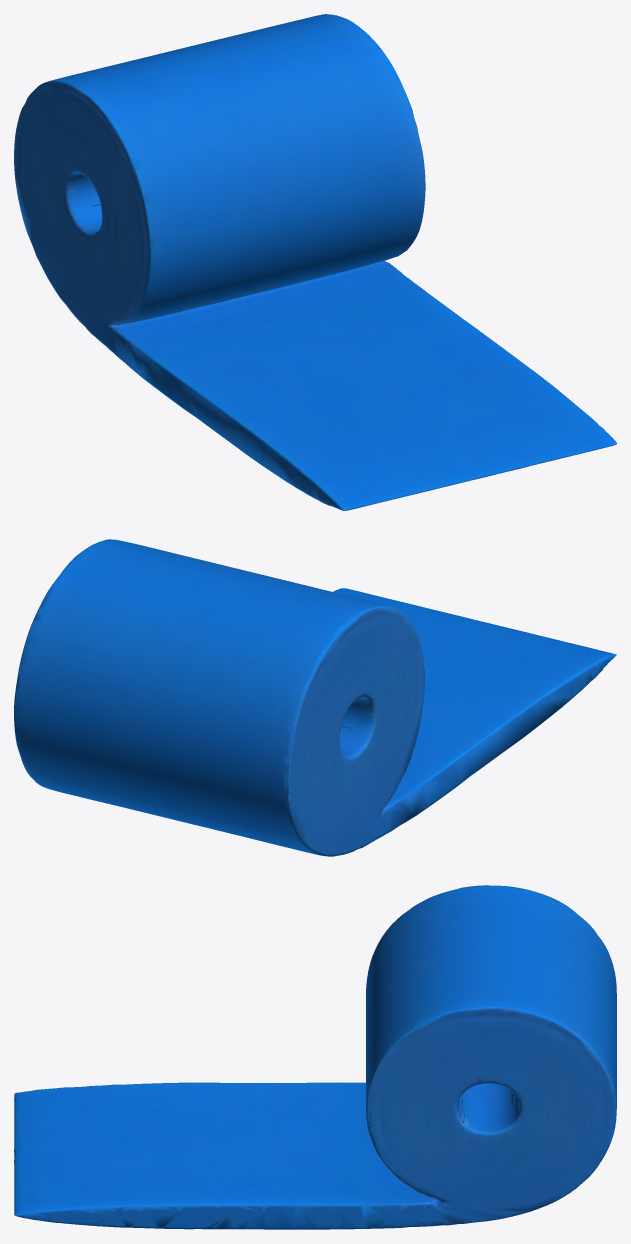
The model's file is vet_equip_bandage_roll.glb.
The picture shows the model from 3 angles, top to bottom: view 1: azimuth 30°, elevation 25°; view 2: azimuth 150°, elevation 25°; view 3: azimuth 270°, elevation 25°; orthographic projection. The views are drawn at different scales.
Visible parts, largest first — view 1: model; view 2: model; view 3: model.
Part boxes in pixels (x1,y1,x2,y2): model: (14,14,616,510); model: (14,539,616,856); model: (14,885,616,1229).
Size of the model in its own units: 0.9159 by 0.7752 by 1.9.
Materials: 1 (1 with a texture image).
